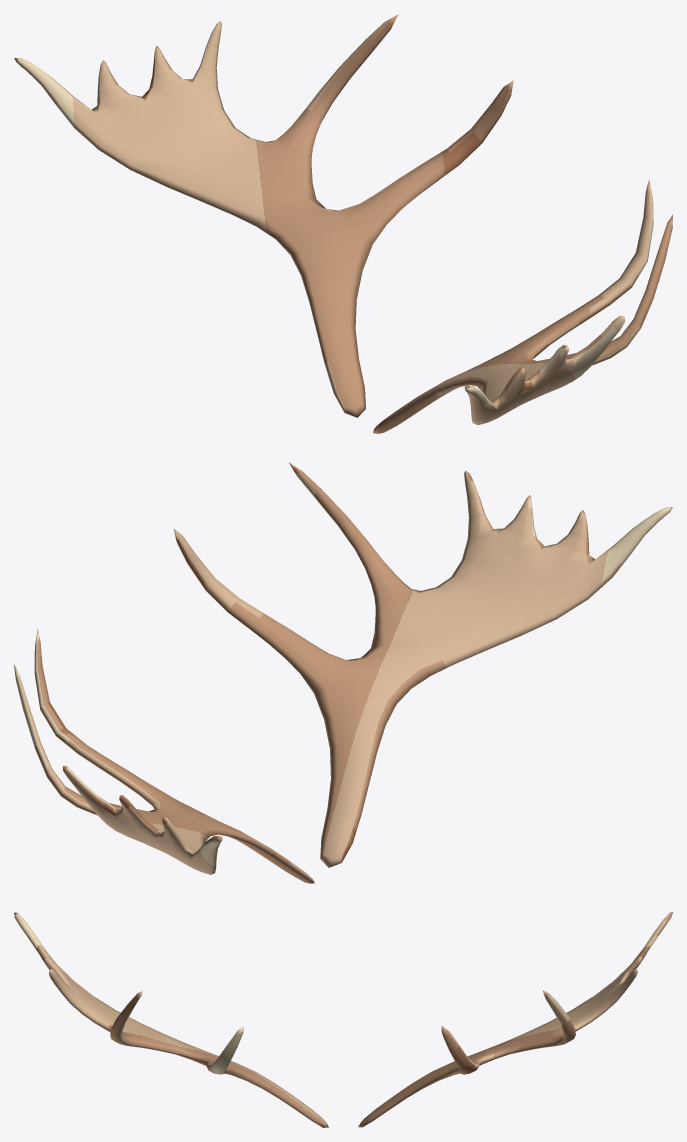
The model's file is Moose Antlers.fbx.
3 views of the same model, one above another, from view 1: azimuth 30°, elevation 25°; view 2: azimuth 150°, elevation 25°; view 3: azimuth 270°, elevation 25° (orthographic). The views are drawn at different scales.
Parts seen in each view (by area): view 1: Moose Antlers; view 2: Moose Antlers; view 3: Moose Antlers.
Boxes of the visible parts, x1=… form: Moose Antlers: x1=14, y1=14, x2=672, y2=433; Moose Antlers: x1=14, y1=462, x2=672, y2=883; Moose Antlers: x1=14, y1=912, x2=672, y2=1127.
Bounding box in the file's own units: 2.7 × 6.18 × 2.04.
